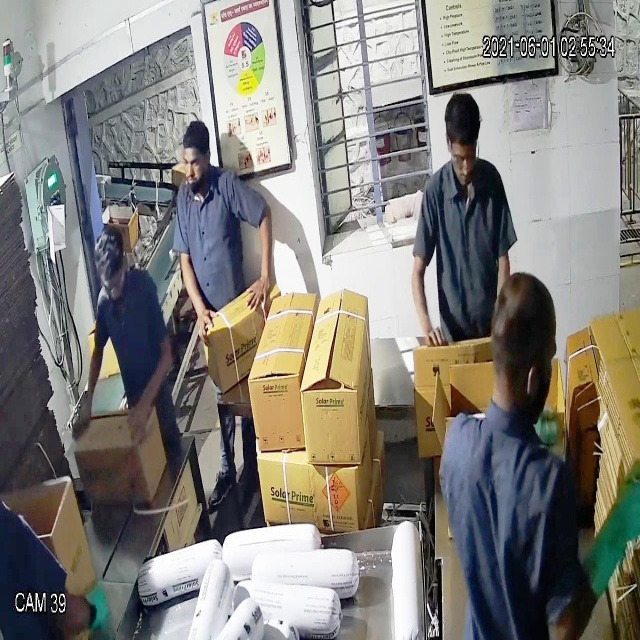Gafas: (443, 132, 487, 177)
